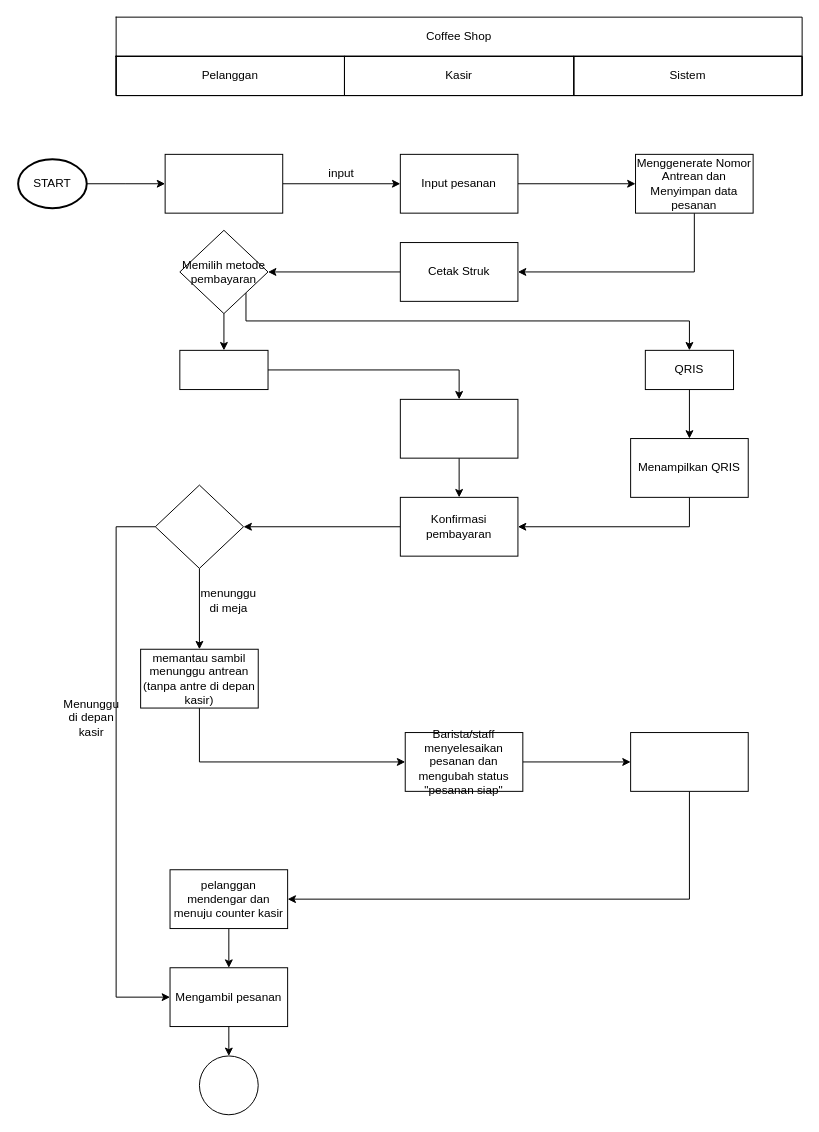
Image size: 819x1132. Some labels were removed from this diagram. The shapes that lost their labels are listed below. From the top down, each one's centre as x and y in pixels, then its label:
At (x=223, y=183): "Datang dan memesan menu".
At (x=223, y=369): "CASH".
At (x=458, y=428): "Kasir Menerima Cash".
At (x=199, y=526): "Ingin menunggu di mana?".
At (x=689, y=761): "Sistem menjalankan pemanggilan otomatis melalui speaker".
At (x=228, y=1085): "Selesai".
